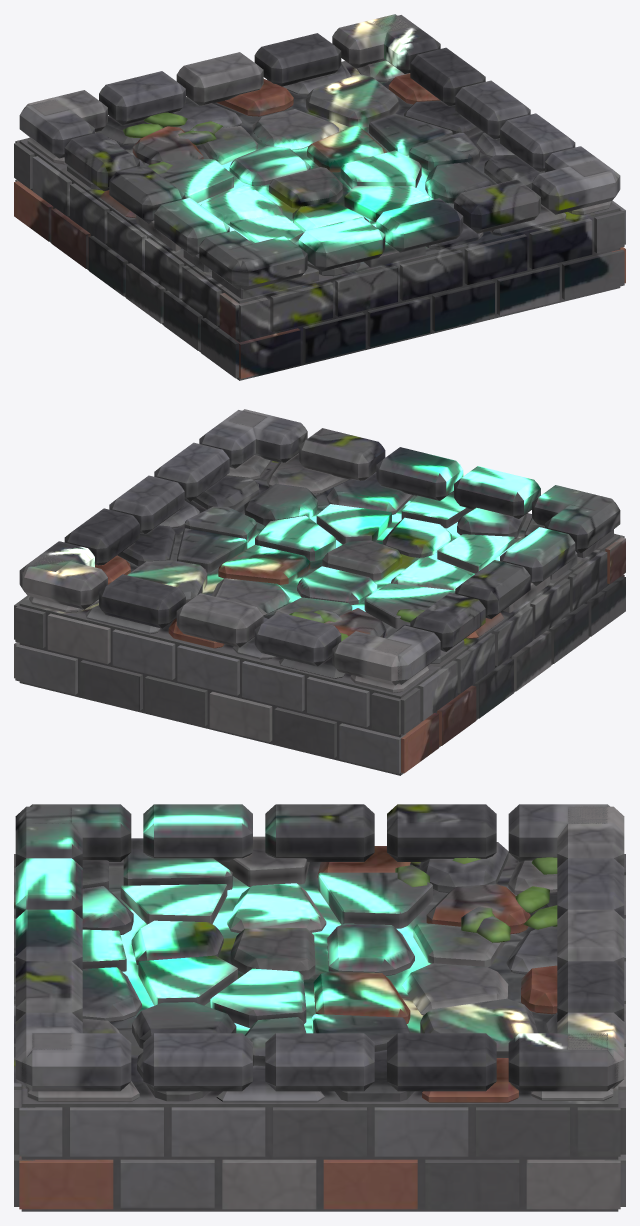
The model's file is gale_plate.glb.
3 views of the same model, one above another, from view 1: azimuth 30°, elevation 25°; view 2: azimuth 150°, elevation 25°; view 3: azimuth 270°, elevation 25° (orthographic). The views are drawn at different scales.
Visible parts, largest first — view 1: gale_plate; view 2: gale_plate; view 3: gale_plate.
Part boxes in pixels (<box>): gale_plate: <box>14,14,625,380</box>; gale_plate: <box>14,409,625,775</box>; gale_plate: <box>14,804,625,1211</box>.
Bounding box in the file's own units: 2.01 × 0.57 × 2.01.
Materials: 1 (1 with a texture image).
